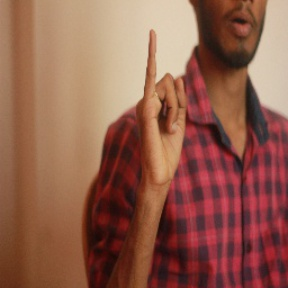I: (135, 27, 196, 186)
